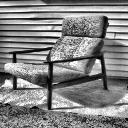chair_success: (3, 14, 115, 112)
